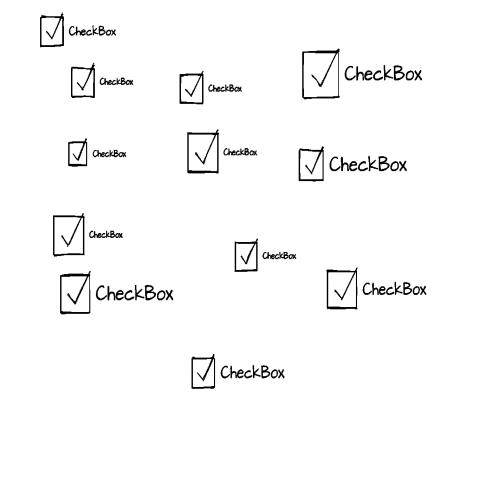Check Box: (301, 47, 423, 102), (59, 271, 174, 315), (325, 267, 428, 312), (298, 145, 409, 184), (190, 353, 286, 391), (185, 130, 258, 176), (52, 213, 124, 259), (40, 11, 118, 50), (177, 70, 244, 109), (70, 65, 134, 101), (233, 239, 297, 274), (68, 137, 127, 170)
